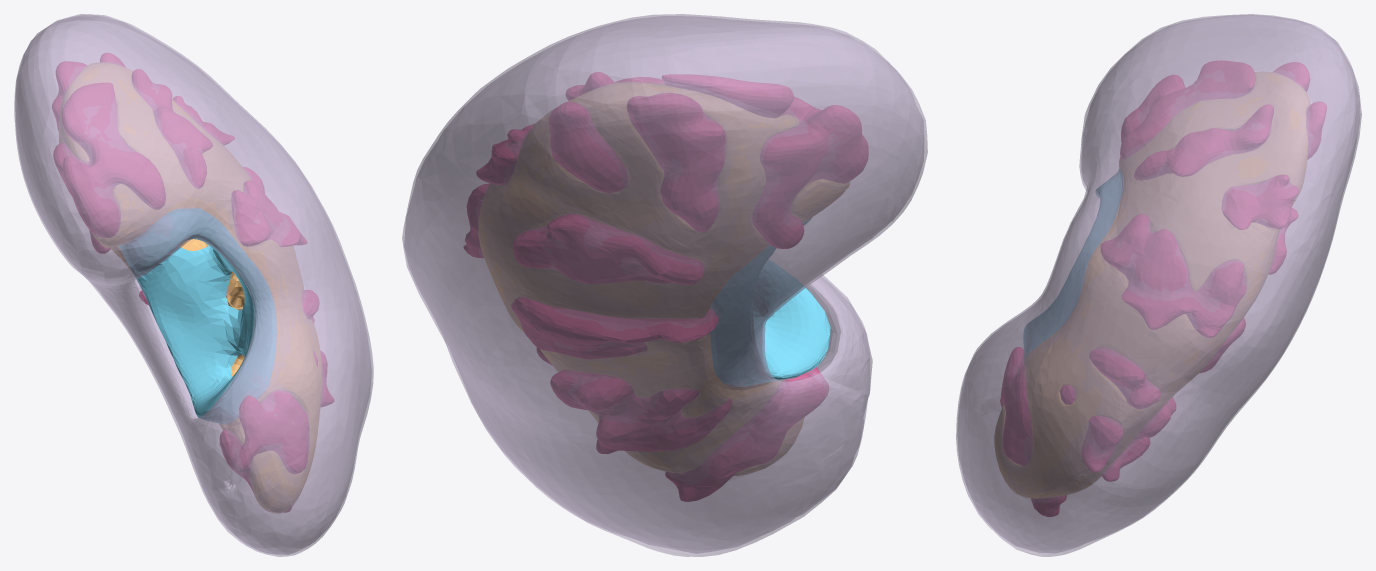
Rendered from organ-kidney.glb.
3 views of the same model, side by side, from view 1: azimuth 30°, elevation 25°; view 2: azimuth 150°, elevation 25°; view 3: azimuth 270°, elevation 25° (orthographic). The views are drawn at different scales.
Parts seen in each view (by area): view 1: kidney-capsule, outer-cortex-of-kidney, renal-pyramid, renal-column, hilum-of-kidney; view 2: kidney-capsule, outer-cortex-of-kidney, renal-pyramid, renal-column, hilum-of-kidney; view 3: kidney-capsule, outer-cortex-of-kidney, renal-column, renal-pyramid, hilum-of-kidney.
Boxes of the visible parts, x1,y1,x2,y2 form: kidney-capsule: (14, 14, 373, 556); outer-cortex-of-kidney: (17, 20, 370, 554); renal-pyramid: (52, 53, 333, 512); renal-column: (59, 63, 321, 512); hilum-of-kidney: (118, 208, 276, 423); kidney-capsule: (402, 14, 927, 556); outer-cortex-of-kidney: (406, 18, 921, 549); renal-pyramid: (464, 72, 868, 501); renal-column: (479, 82, 849, 475); hilum-of-kidney: (710, 218, 830, 386); kidney-capsule: (956, 14, 1361, 556); outer-cortex-of-kidney: (957, 16, 1355, 551); renal-column: (994, 72, 1310, 498); renal-pyramid: (1000, 60, 1326, 516); hilum-of-kidney: (1023, 169, 1123, 356).
Bounding box in the file's own units: 0.0757 × 0.1065 × 0.0824.
